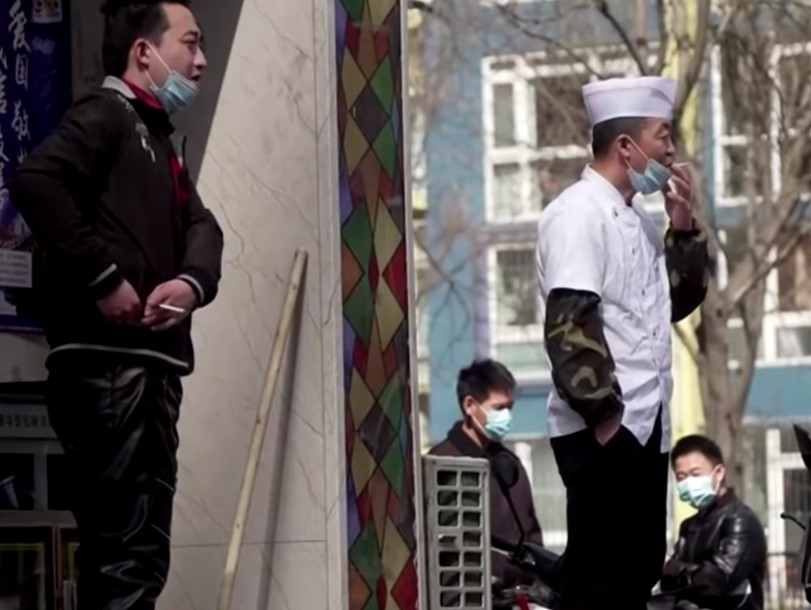face_with_mask: (583, 74, 691, 206), (104, 6, 219, 119), (455, 357, 522, 447), (672, 435, 727, 513)
